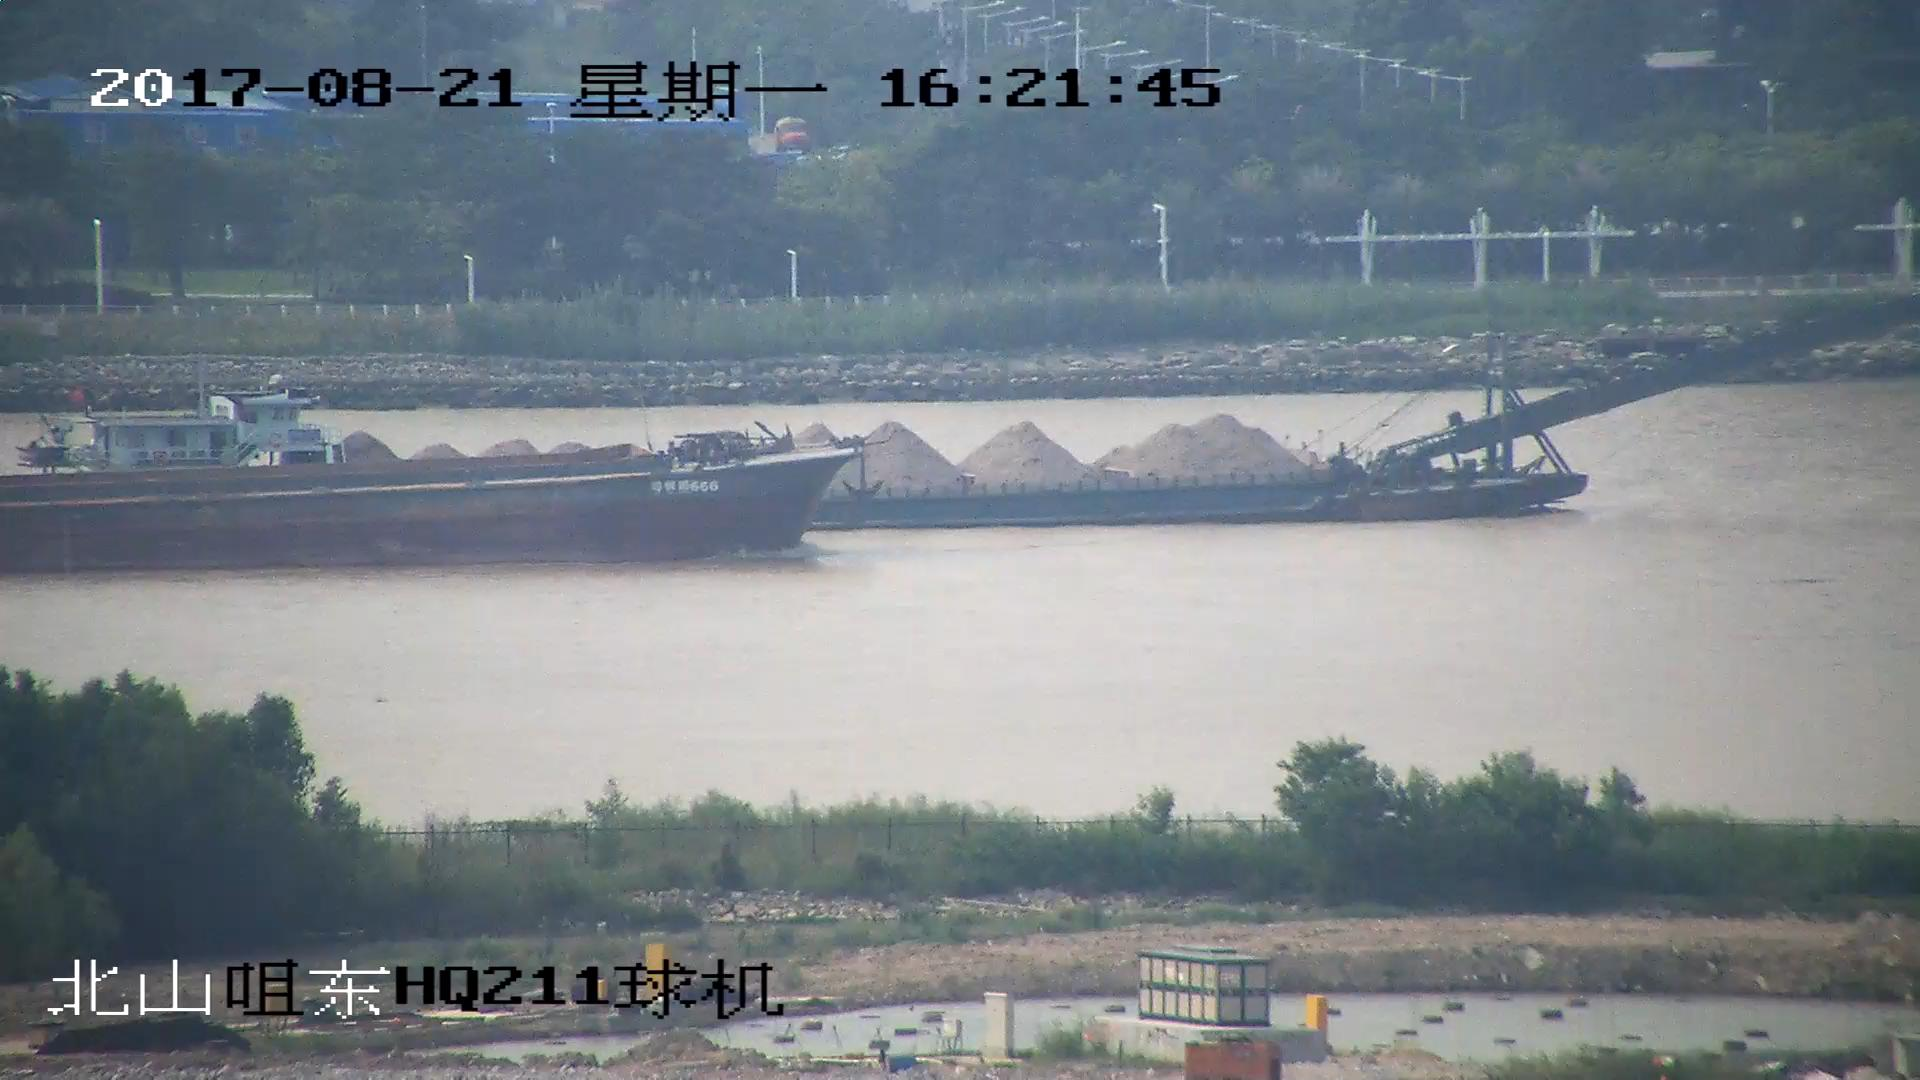bulk cargo carrier: (1, 435, 874, 577)
ore carrier: (23, 291, 1916, 527)
